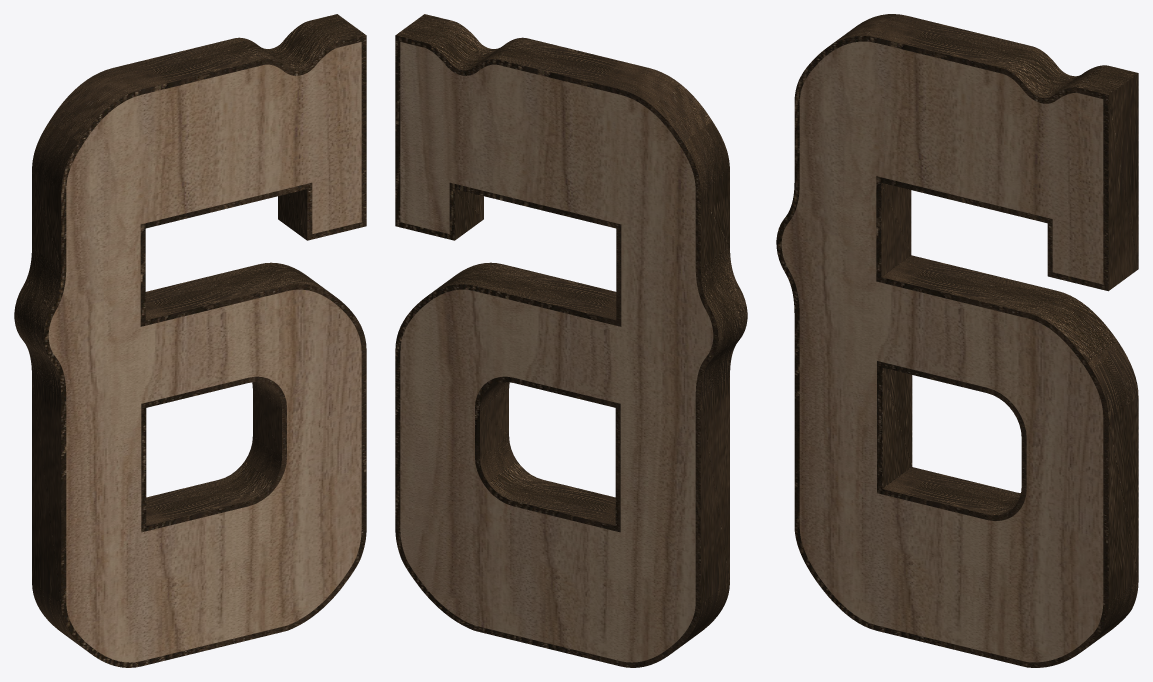
The picture shows the model from 3 angles, left to right: view 1: azimuth 30°, elevation 25°; view 2: azimuth 150°, elevation 25°; view 3: azimuth 330°, elevation 25°; orthographic projection. The views are drawn at different scales.
Visible parts, largest first — view 1: 6, 6_outline; view 2: 6, 6_outline; view 3: 6, 6_outline.
Part boxes in pixels (<box>): 6: <box>48,42,361,662</box>; 6_outline: <box>14,14,366,667</box>; 6: <box>400,42,713,662</box>; 6_outline: <box>395,14,747,667</box>; 6: <box>781,41,1103,662</box>; 6_outline: <box>776,14,1138,667</box>.
Bounding box in the file's own units: 63.82 × 109 × 10.
2 materials, 2 textured.
